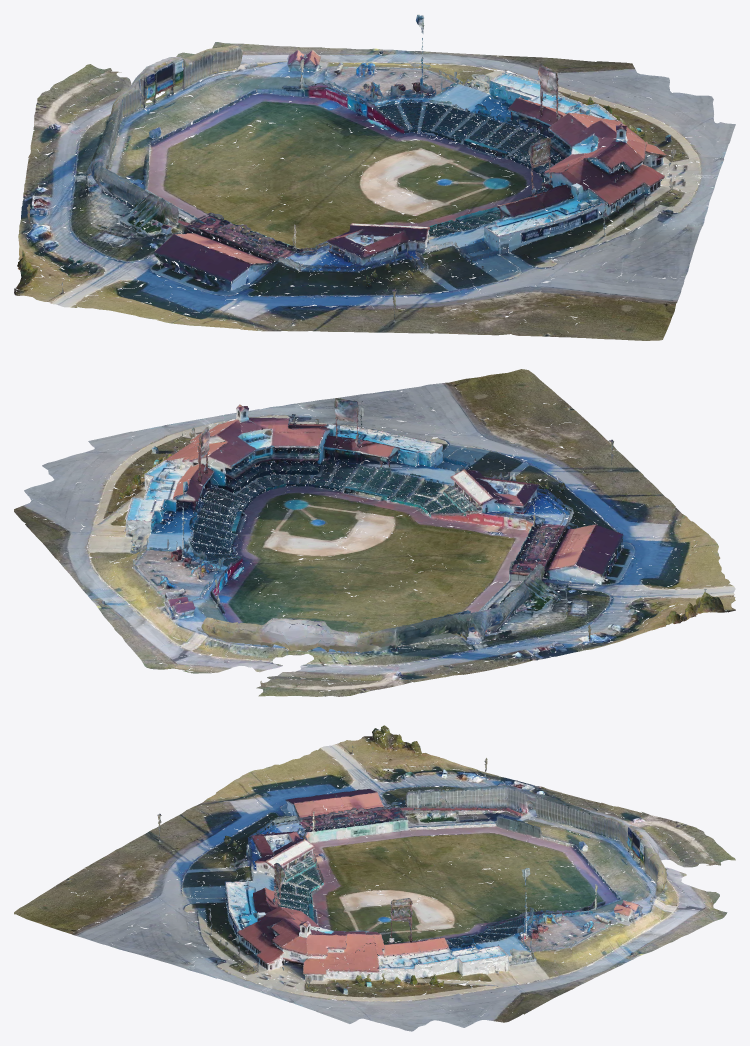
File: ballpark.glb
3 renders of one model, top to bottom at view 1: azimuth 30°, elevation 25°; view 2: azimuth 150°, elevation 25°; view 3: azimuth 270°, elevation 25°, orthographic. The views are drawn at different scales.
Parts seen in each view (by area): view 1: mesh_out_node_texture_material_0; view 2: mesh_out_node_texture_material_0; view 3: mesh_out_node_texture_material_0.
Part boxes in pixels (<box>): mesh_out_node_texture_material_0: <box>14,14,735,340</box>; mesh_out_node_texture_material_0: <box>14,369,735,696</box>; mesh_out_node_texture_material_0: <box>14,725,735,1031</box>.
Size of the model in its own units: 292 by 37.88 by 301.
Materials: 1 (1 with a texture image).
